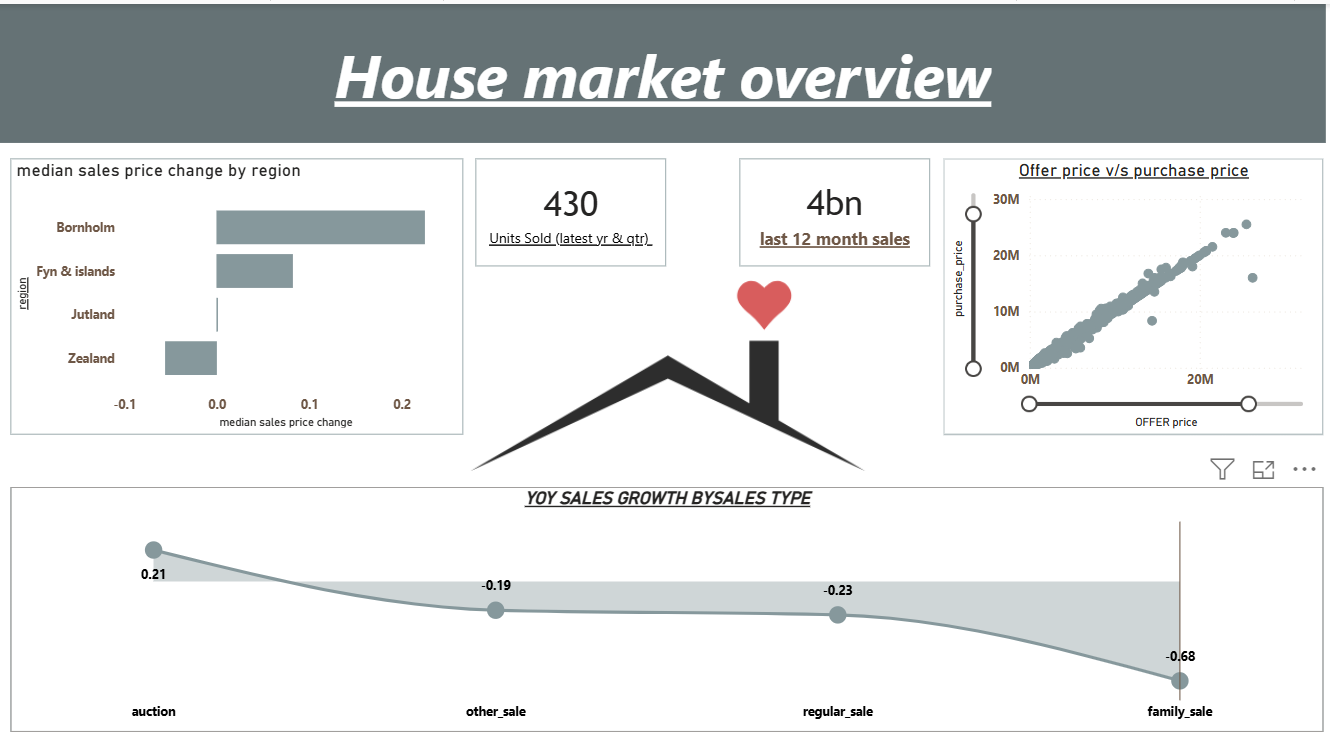

What the dashboard file says about the page in this screenshot:
{"tool":"powerbi","page":{"name":"house market overview","canvas":[1280,720],"ordinal":0},"visuals":[{"type":"shape","box":[0,0,1271.1,133.2],"z":0},{"type":"lineChart","title":"YOY SALES GROWTH BYSALES TYPE","fields":{"Y":["Housing Data.YoY KPI Summary"],"Category":["Housing Data.sales_type"]},"box":[10.1,463.1,1258.3,234.4],"z":1000},{"type":"scatterChart","title":"Offer price v/s purchase price","fields":{"X":["Housing Data.OFFER price"],"Y":["Housing Data.purchase_price"]},"box":[904.6,148.1,363.8,264.6],"z":2000},{"type":"barChart","fields":{"Y":["Housing Data.median sales price change"],"Category":["Housing Data.region"]},"box":[10.1,148.1,434.3,264.6],"z":3000},{"type":"card","fields":{"Values":["Housing Data.units sold in latest year & quarter"]},"box":[455.9,148.1,182.6,103.5],"z":4000},{"type":"card","fields":{"Values":["Housing Data.last 12 month sales"]},"box":[709,148.1,182.6,103.5],"z":5000}]}

Visuals, with their boxes in screenshot pixels (x1, y1, x2, y2), scaled from the page's 1280x720 canvas onto the 1330x739 screenshot:
shape: <region>0, 0, 1321, 137</region>
"YOY SALES GROWTH BYSALES TYPE" lineChart: <region>10, 475, 1318, 716</region>
"Offer price v/s purchase price" scatterChart: <region>940, 152, 1318, 424</region>
barChart - Housing Data.median sales price change x Housing Data.region: <region>10, 152, 462, 424</region>
card - Housing Data.units sold in latest year & quarter: <region>474, 152, 663, 258</region>
card - Housing Data.last 12 month sales: <region>737, 152, 926, 258</region>
